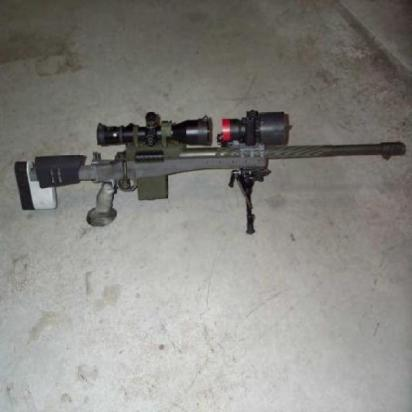Gun: (17, 87, 410, 263)
